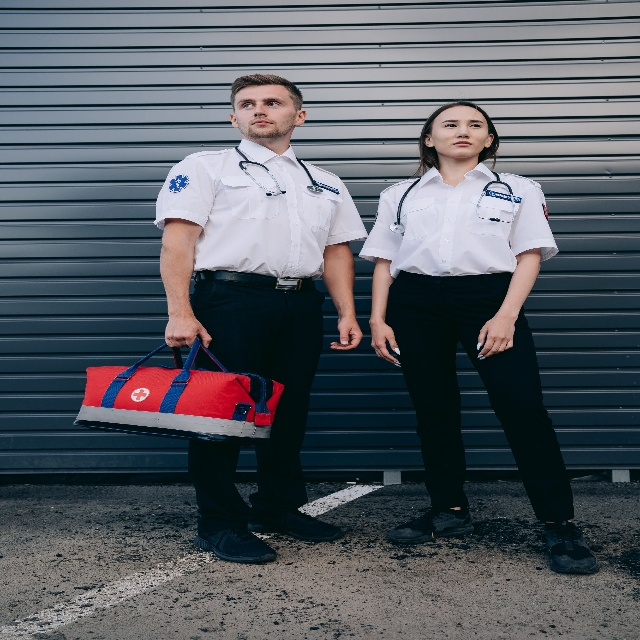Sin_guantes: (164, 312, 215, 352), (477, 312, 514, 359), (369, 316, 402, 366), (329, 317, 364, 351)
